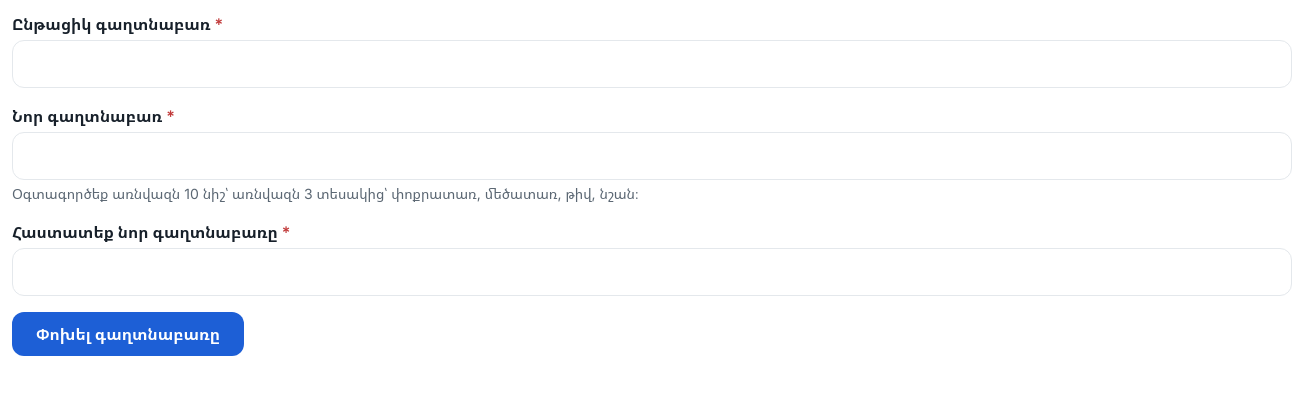
Test: ChangePasswordForm (apps/web/src/modules/profile) › a mismatched confirmation blocks submission
Type "OldPass!2024" into the password field labelled "Ընթացիկ գաղտնաբառ *" at (652,64), box left=29, top=41, right=1275, bottom=87
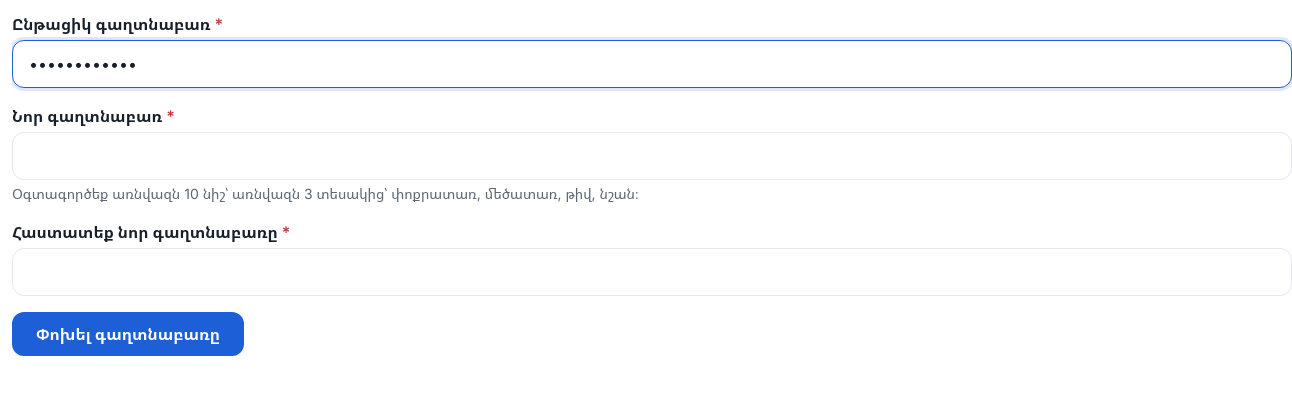
Type "NewStrongPass!2024" into the password field labelled "Նոր գաղտնաբառ *" at (652,156), box left=29, top=133, right=1275, bottom=179
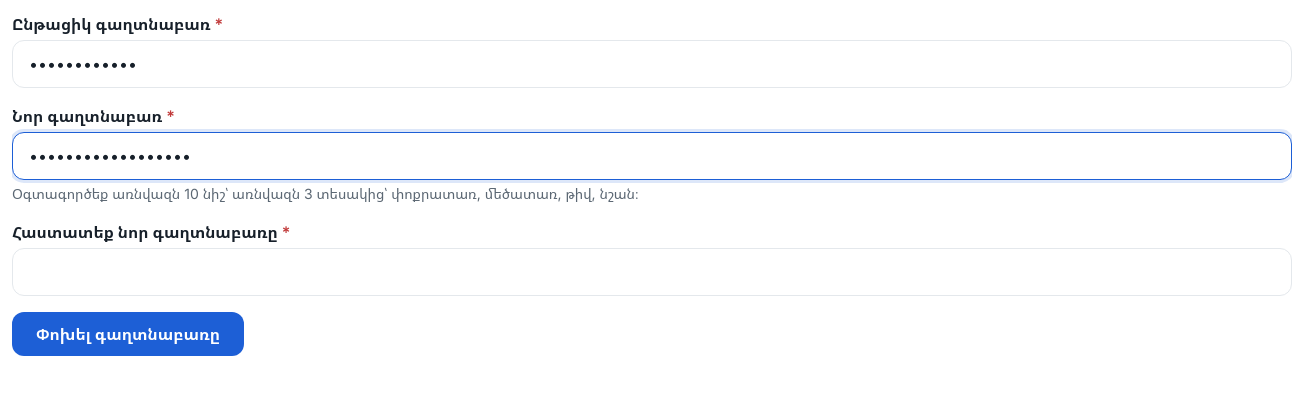
Type "Different!2024" into the password field labelled "Հաստատեք նոր գաղտնաբառը *" at (652,272), box left=29, top=249, right=1275, bottom=295
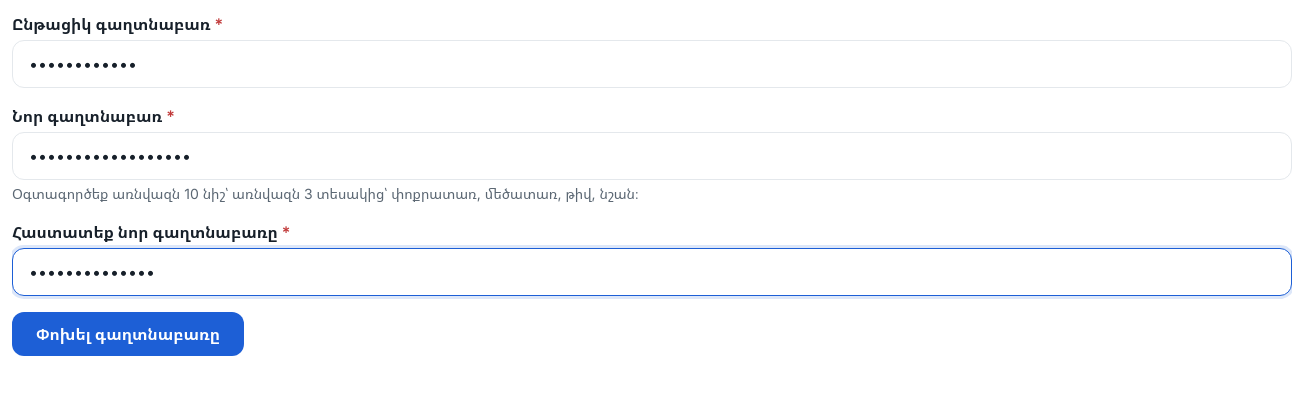
Click the button "Փոխել գաղտնաբառը" at (128,334), box left=12, top=312, right=244, bottom=356
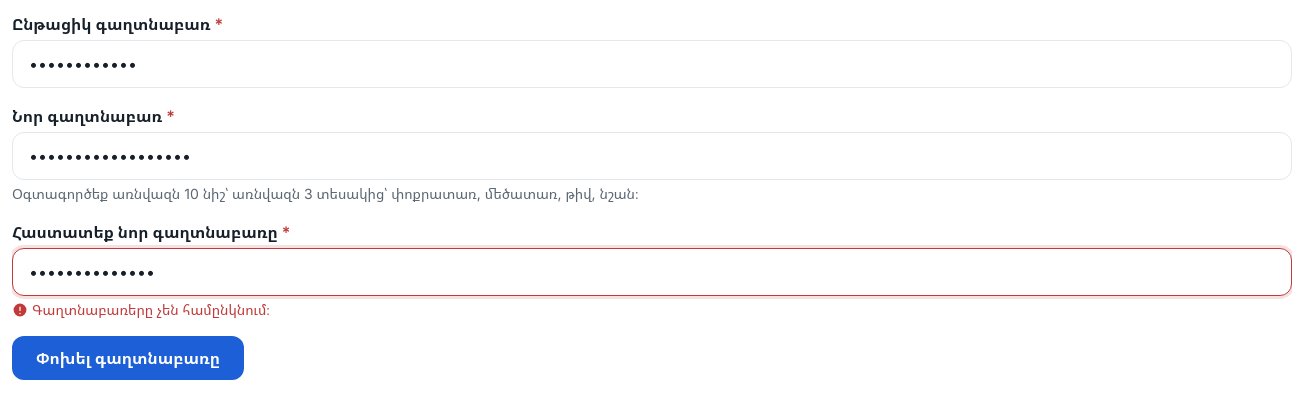
Check: the text "Գաղտնաբառերը չեն համընկնում։" is shown, box left=12, top=301, right=270, bottom=318
